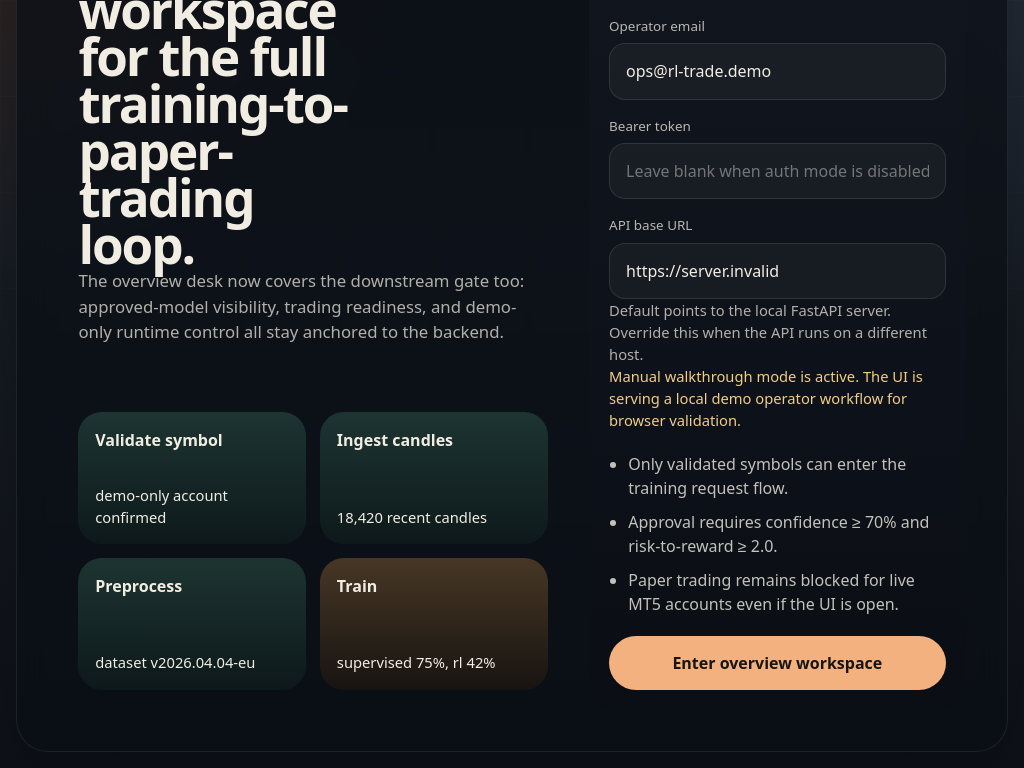
it: frontend workspace smoke tests › renders the system view from the workspace hash
(page scrolled)
Click the button "Enter overview workspace" at (777, 663), box [609,636,946,690]
(page scrolled)
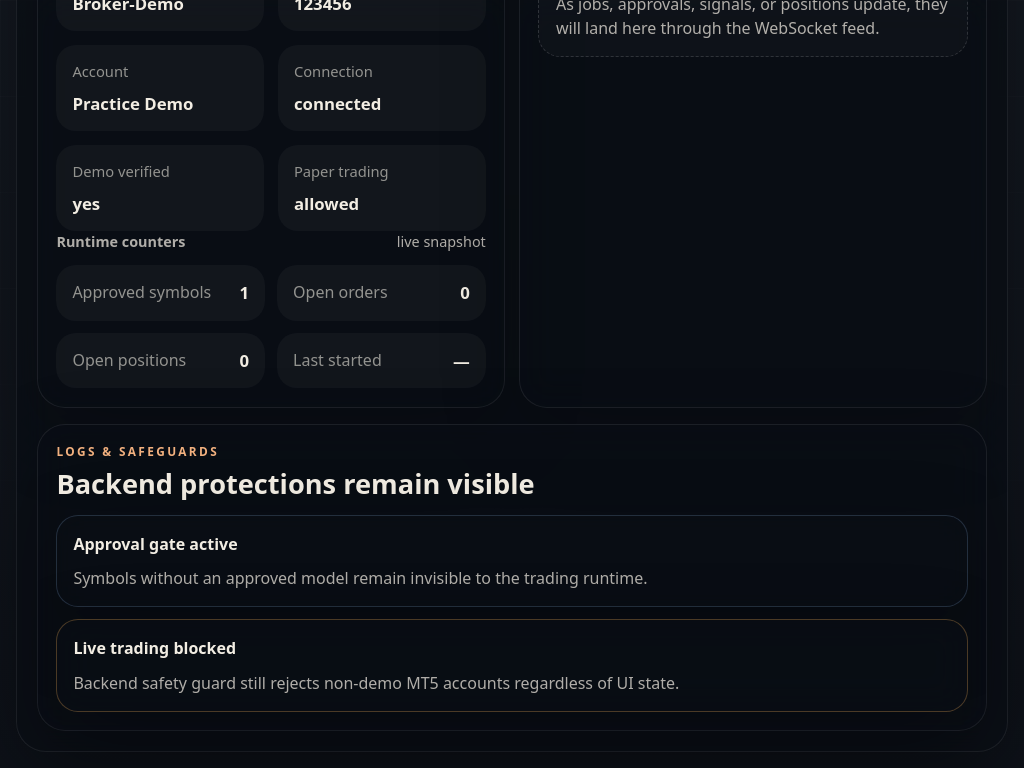
expect the heading "Backend protections remain visible" is shown: met, box [56,470,534,499]
